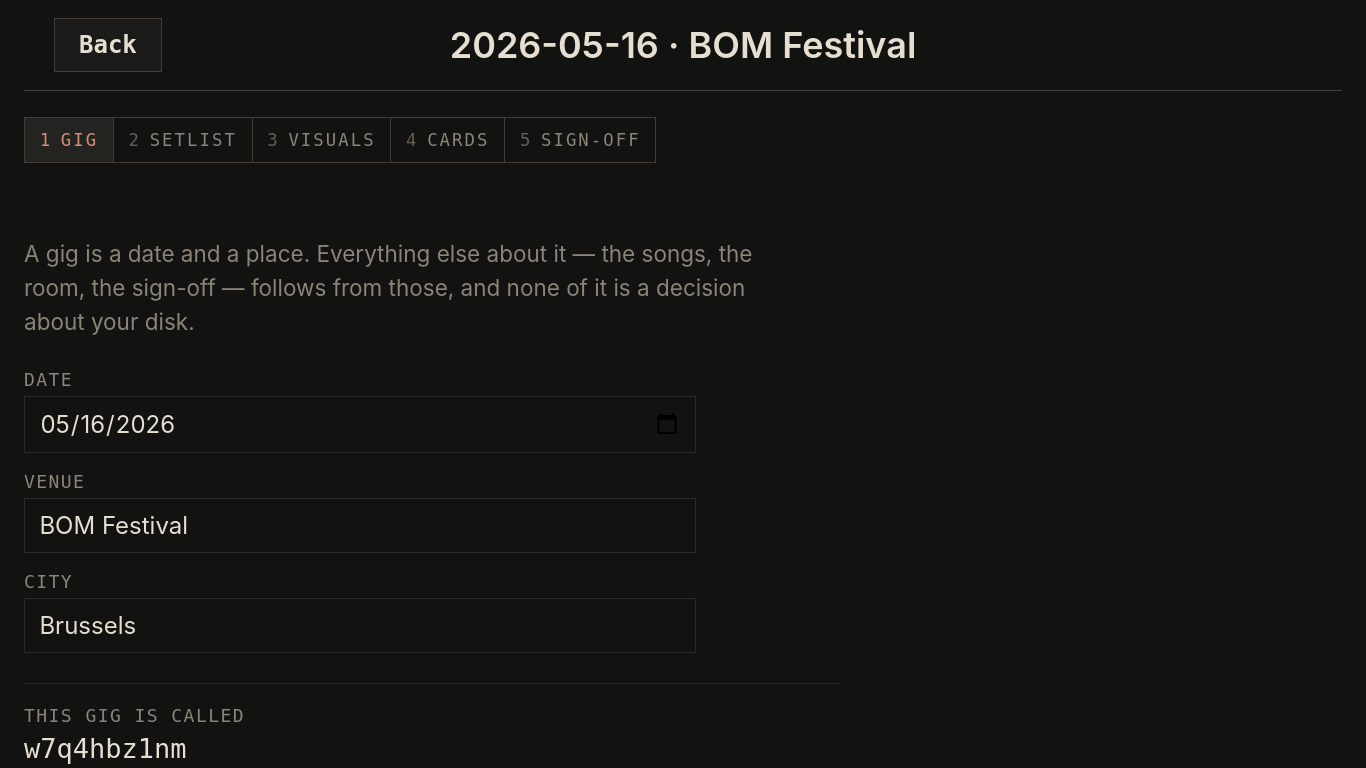
Test: the check screen › fails the modes line when two shapes of one kind are live in a mode
Click the button with test id "gig-flow-step-5" at [580, 140], box x1=505 y1=118 x2=655 y2=162
(page scrolled)
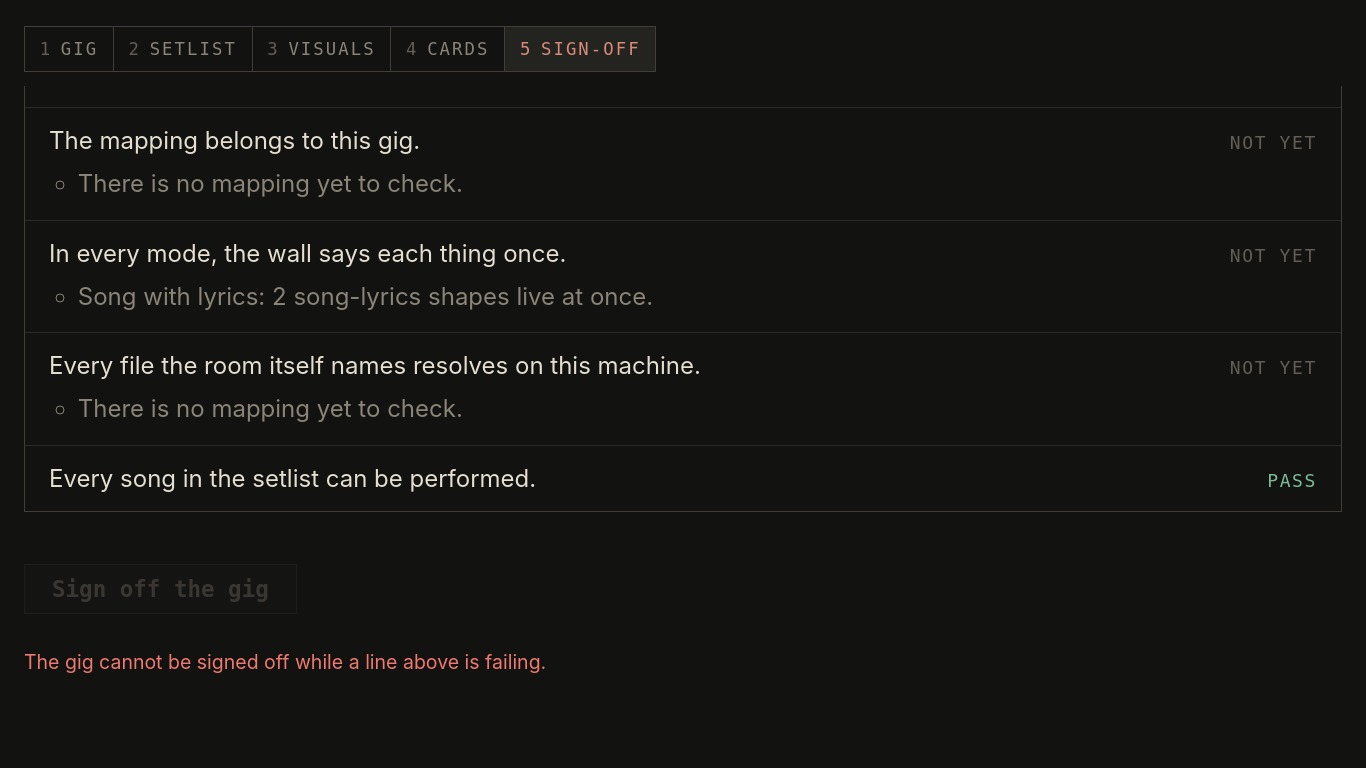
expect the list with test id "gig-check-modes-detail" reads "Song with lyrics: 2 song-lyrics shapes live at once.": met, box x1=78 y1=282 x2=653 y2=310
expect the button with test id "gig-flow-confirm" is disabled: met, box x1=24 y1=564 x2=297 y2=614
